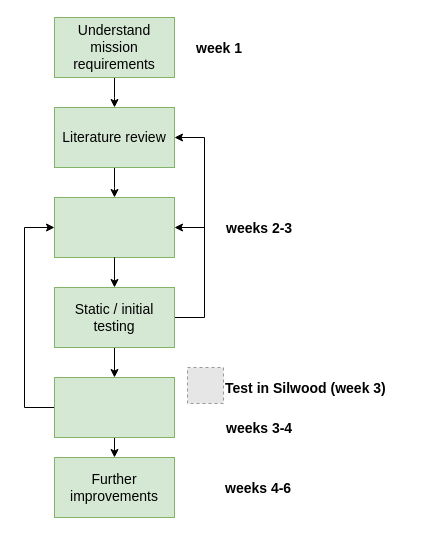
Image size: 421x535. Some labels were removed from this diagram. Grey dashed boxes stand in for pictures. The shapes that lost their labels are listed below. From the top down, each one's box as (x1, y1, x2, y2) in pixels, then its label:
(54, 196, 174, 258): Sensor evaluation
(54, 376, 174, 438): Integrated testing (with flight algorithms)
